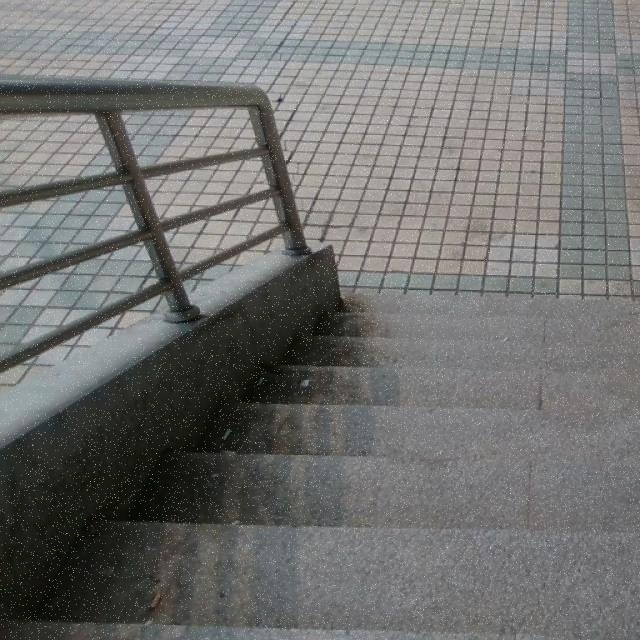stair: (18, 305, 640, 633)
